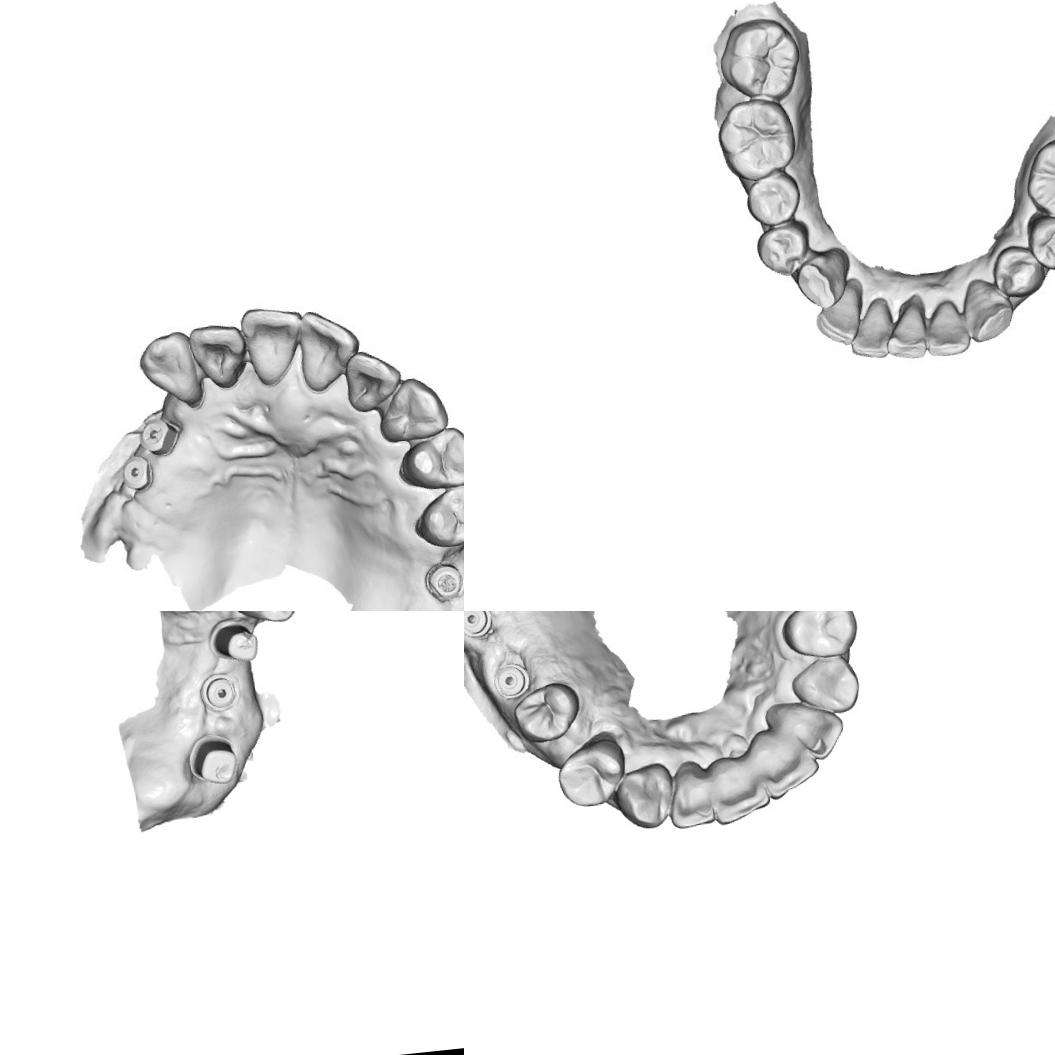abutment: (182, 728, 244, 790), (208, 617, 262, 668)
canine: (375, 377, 454, 448), (136, 330, 204, 410), (786, 652, 864, 719), (610, 761, 678, 831), (790, 245, 854, 313), (958, 276, 1016, 344)
implant: (198, 670, 242, 713), (490, 660, 532, 701), (425, 558, 464, 600), (122, 454, 157, 490), (464, 611, 496, 642)
implant_plus: (139, 415, 178, 459)
incisor: (293, 306, 361, 396), (764, 694, 848, 766), (754, 722, 824, 802), (238, 302, 305, 385), (703, 753, 773, 828), (190, 321, 256, 395), (662, 762, 718, 832), (811, 285, 868, 349), (844, 300, 899, 362), (921, 298, 976, 358), (882, 299, 932, 364), (341, 352, 392, 411)
molar: (713, 11, 806, 104), (712, 94, 804, 185), (1019, 132, 1055, 227)
premolar: (553, 735, 632, 812), (507, 678, 583, 747), (396, 426, 464, 499), (778, 611, 862, 663), (409, 480, 464, 552), (744, 170, 804, 229), (754, 220, 815, 276), (991, 241, 1048, 300), (1022, 211, 1055, 273), (224, 611, 303, 627)
